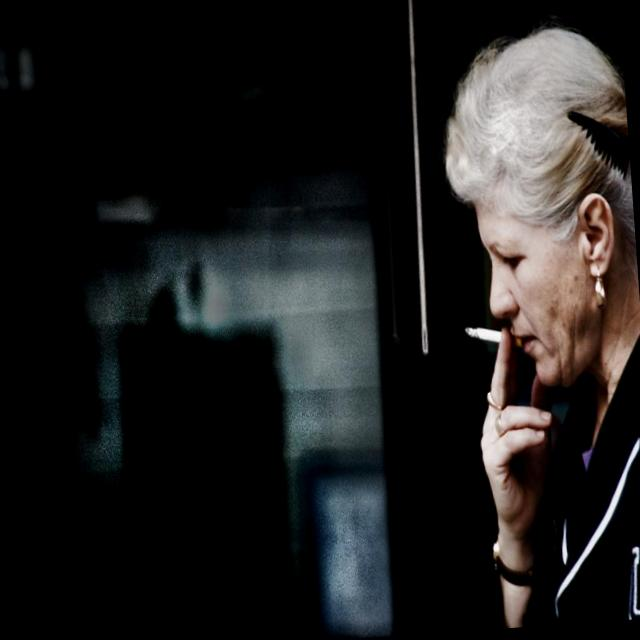cigarette: (456, 310, 522, 361)
